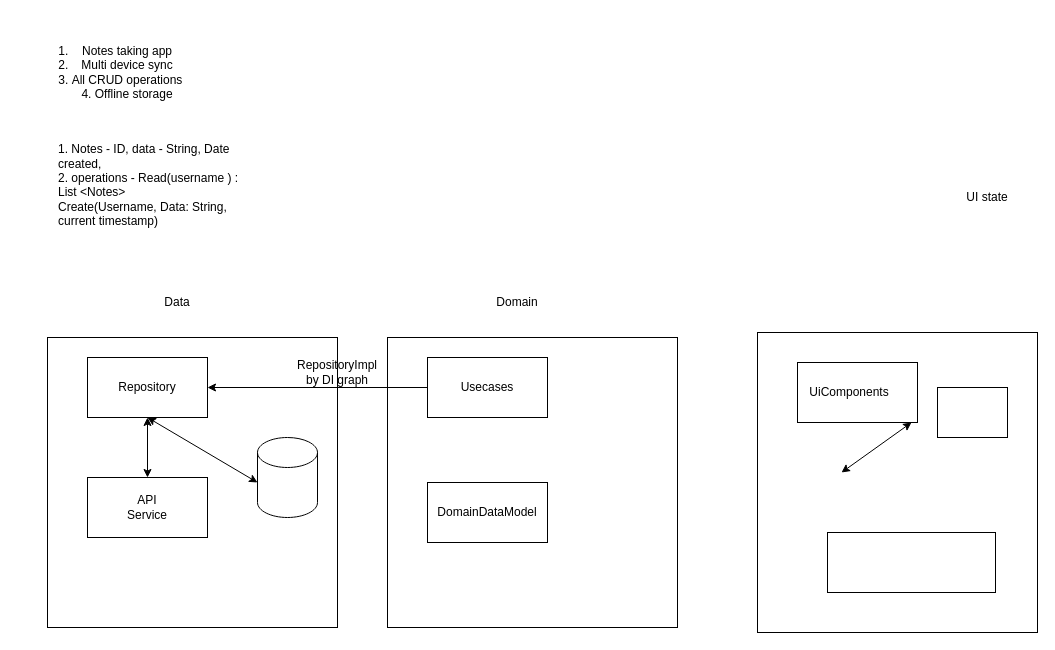
The diagram is 1055 pixels wide and 650 high, and some of its shapes have lost their labels. The box of each missing label's shape, as (x1, y1, x2, y2) in pixels:
Persitent storage: (256, 436, 318, 518)
Ui States: (936, 386, 1008, 438)
ViewModel: (826, 532, 996, 592)
